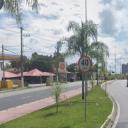speed_limit_40: (77, 55, 93, 74)
